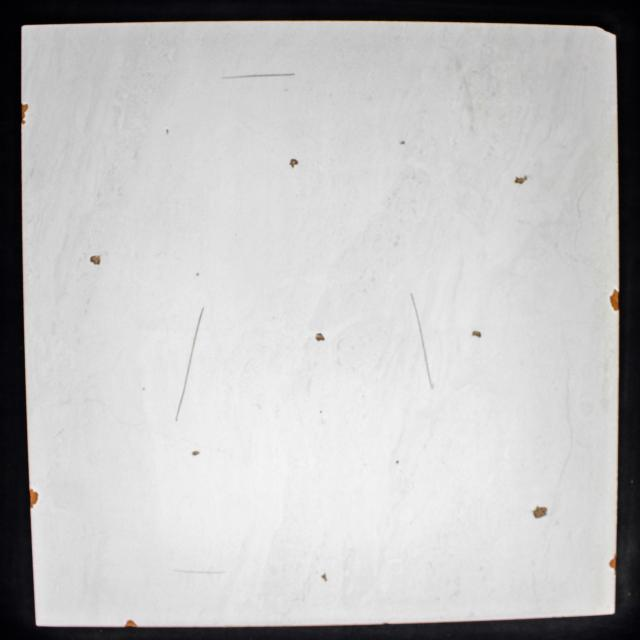edge-chipping: (608, 288, 620, 312), (20, 102, 29, 125), (608, 553, 617, 573), (598, 26, 616, 36), (123, 618, 138, 628), (471, 329, 482, 338)
hole: (531, 504, 549, 520), (28, 488, 40, 510), (513, 174, 529, 186), (89, 254, 102, 266), (288, 157, 300, 170), (313, 332, 326, 342), (321, 572, 328, 583), (191, 450, 200, 456), (399, 140, 406, 146), (395, 459, 400, 465)
line: (174, 360, 192, 422), (190, 306, 205, 359), (421, 338, 434, 390), (222, 72, 296, 80), (410, 292, 422, 336), (172, 568, 227, 574)
